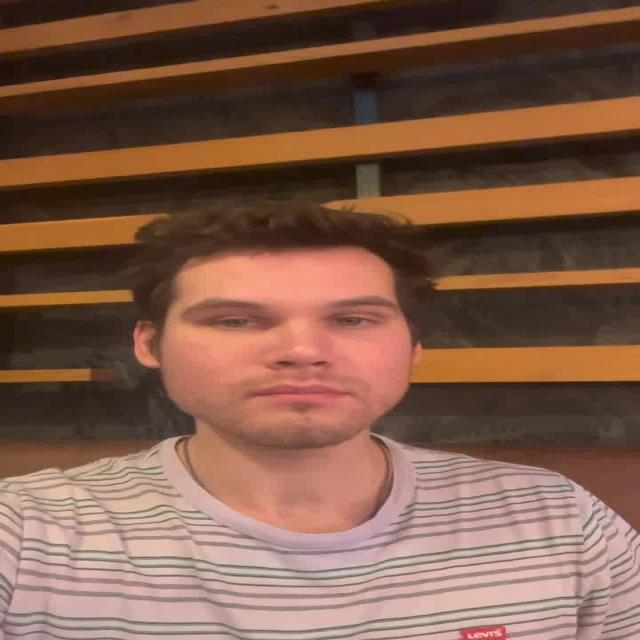earlobe: (137, 355, 164, 369)
eye: (334, 315, 378, 329), (214, 317, 262, 329)
nose: (268, 362, 332, 384)
wholeear: (134, 320, 164, 369)
